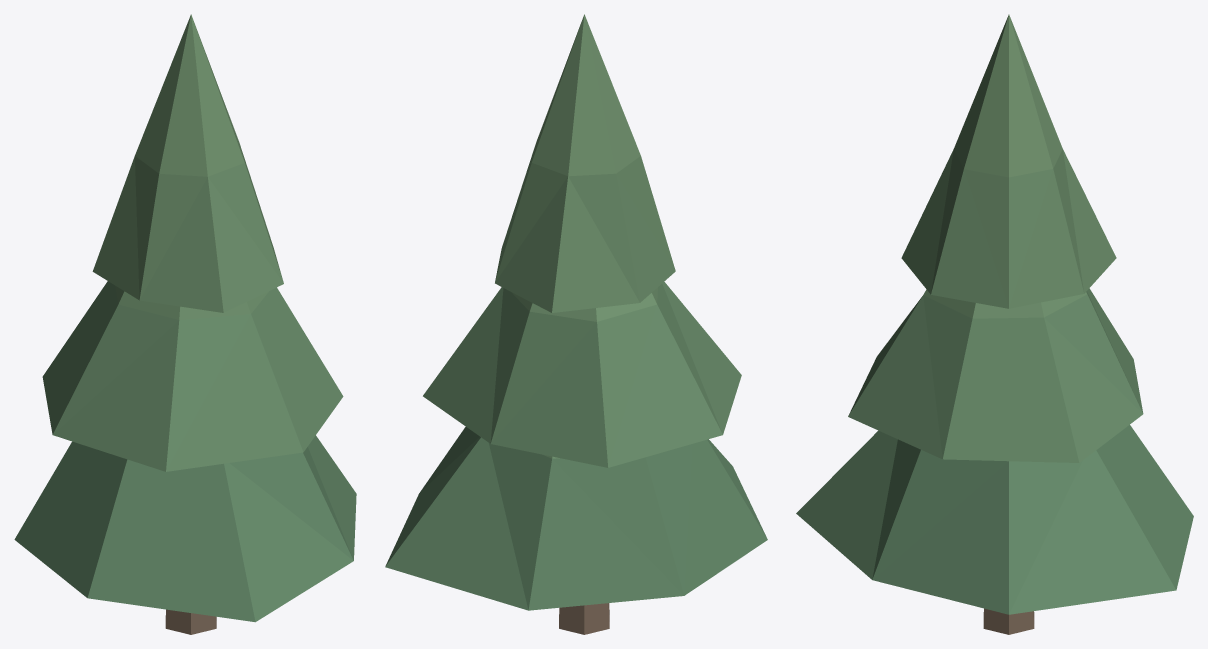
Rendered from spruce.glb.
3 views of the same model, side by side, from view 1: azimuth 30°, elevation 25°; view 2: azimuth 150°, elevation 25°; view 3: azimuth 270°, elevation 25° (orthographic).
Visible parts, largest first — view 1: spruce; view 2: spruce; view 3: spruce.
Boxes of the visible parts, box(x1,y1,x2,y2) form: spruce: box(14, 14, 356, 634); spruce: box(385, 14, 767, 634); spruce: box(796, 14, 1193, 634).
Bounding box in the file's own units: 2.92 × 5.5 × 3.26.
